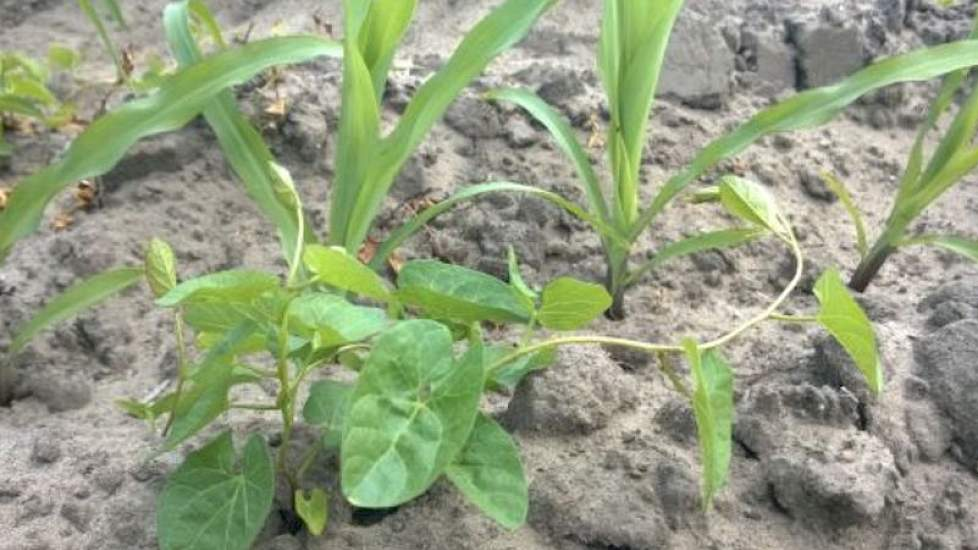haagwinde: (148, 211, 626, 550), (644, 158, 928, 516)
